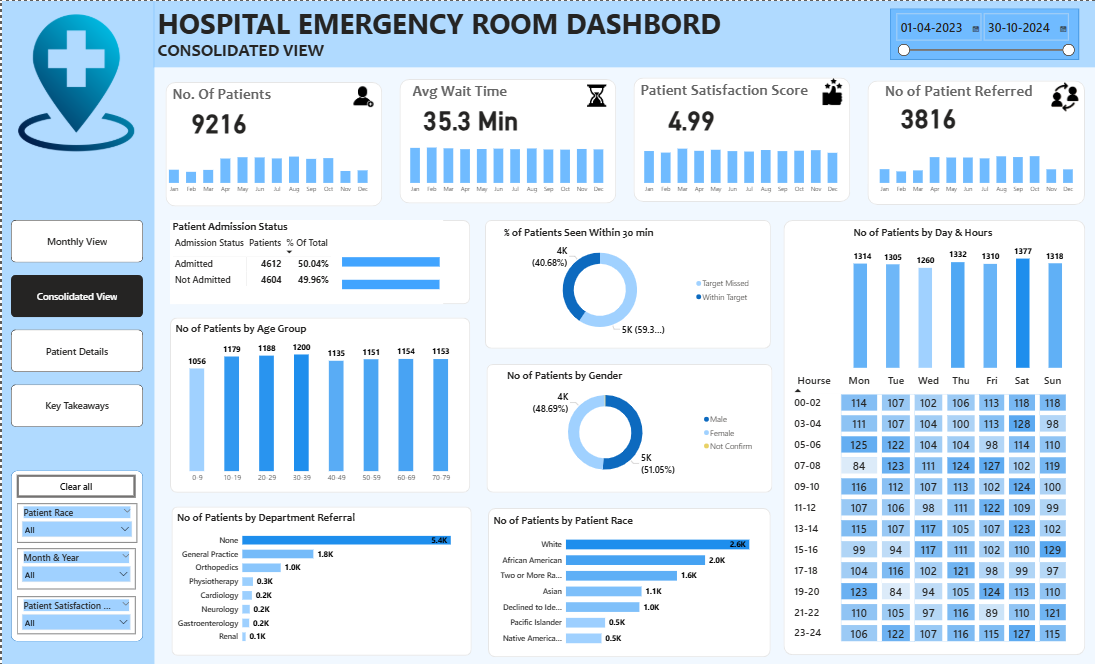

Layout of this report page (visuals, bound fields, positions):
{"tool":"powerbi","page":{"name":"Consolidated View","canvas":[2300,1400],"ordinal":1},"visuals":[{"type":"shape","box":[343.2,170,455,261.3],"z":0},{"type":"shape","box":[0,0,320,1400],"z":1000},{"type":"shape","box":[319.2,0,1979.7,139.2],"z":2000},{"type":"textbox","box":[321.1,0,1212.2,94.5],"z":3000},{"type":"textbox","box":[321.1,75.6,396.7,59.8],"z":4000},{"type":"card","fields":{"Values":["Hospital ER_Data.No of Patients"]},"box":[349.1,191.2,210.9,116.5],"z":5000},{"type":"slicer","fields":{"Values":["Date Table.Date"]},"box":[1863.9,15.7,396.7,107],"z":6000},{"type":"textbox","box":[352.6,170,226.7,59.8],"z":7000},{"type":"columnChart","fields":{"Category":["Date Table.Month Name"],"Y":["Hospital ER_Data.No of Patients"]},"box":[330.6,286.5,456.5,125],"z":8000},{"type":"shape","box":[18.9,984.7,277.1,358.9],"z":8000,"group":"g1"},{"type":"shape","box":[834.4,163.2,455,261.3],"z":9000},{"type":"slicer","fields":{"Values":["Hospital ER_Data.Patient Race"]},"box":[31.5,1054,251.9,81.9],"z":9000,"group":"g1"},{"type":"card","fields":{"Values":["Hospital ER_Data.Avg Wait Time"]},"box":[879.4,185.4,210,116.7],"z":10000},{"type":"slicer","fields":{"Values":["Date Table.Month & Year"]},"box":[31.5,1148.4,248.7,85],"z":10000,"group":"g1"},{"type":"textbox","box":[856.4,163.7,251.9,66.1],"z":11000},{"type":"slicer","fields":{"Values":["Hospital ER_Data.Patient Satisfaction Score"]},"box":[31.5,1249.2,248.7,78.7],"z":11000,"group":"g1"},{"type":"columnChart","fields":{"Category":["Date Table.Month Name"],"Y":["Avg(Hospital ER_Data.Patient Waittime)"]},"box":[836.5,286.5,443.9,125],"z":12000},{"type":"shape","box":[1325.5,160.6,455,261.3],"z":13000},{"type":"shape","box":[353.3,458.9,630,177],"z":14000},{"type":"shape","box":[1816.7,166.9,456.5,261.3],"z":15000},{"type":"textbox","box":[1335,160.6,393.6,69.3],"z":16000},{"type":"card","fields":{"Values":["Hospital ER_Data.Satisfaction Score"]},"box":[1341.9,184.9,210.9,116.5],"z":17000},{"type":"columnChart","fields":{"Y":["Hospital ER_Data.Satisfaction Score"],"Category":["Date Table.Month Name"]},"box":[1329.7,286.5,443.9,125],"z":18000},{"type":"textbox","box":[1848.2,163.7,393.6,69.3],"z":19000},{"type":"columnChart","fields":{"Y":["Hospital ER_Data.No of Petient Referred"],"Category":["Date Table.Month Name"]},"box":[1823,286.5,443.9,125],"z":20000},{"type":"card","fields":{"Values":["Hospital ER_Data.No of Petient Referred"]},"box":[1838.3,181.7,210.9,116.5],"z":21000},{"type":"pivotTable","title":"Patient Admission Status","fields":{"Rows":["Hospital ER_Data.Admission Status"],"Values":["Hospital ER_Data.No of Patients1","Hospital ER_Data.No of Patients"]},"box":[354,460.5,573.3,176.7],"z":22000},{"type":"barChart","fields":{"Category":["Hospital ER_Data.Admission Status"],"Y":["Hospital ER_Data.No of Patients"]},"box":[707.3,500.5,276.7,136.7],"z":23000},{"type":"shape","box":[353.3,664.2,630,368],"z":24000},{"type":"clusteredColumnChart","fields":{"Category":["Hospital ER_Data.Age Group"],"Y":["Hospital ER_Data.No of Patients"]},"box":[360,673.3,613.3,346.7],"z":25000},{"type":"shape","box":[356.7,1060,630,313.3],"z":26000},{"type":"clusteredBarChart","fields":{"Category":["Hospital ER_Data.Department Referral"],"Y":["Hospital ER_Data.No of Patients"]},"box":[363.3,1070,613.3,290],"z":27000},{"type":"shape","box":[1013.3,460,600,270],"z":28000},{"type":"donutChart","title":"% of Patients Seen Within 30 min ","fields":{"Category":["Hospital ER_Data.Waittime Status"],"Y":["Hospital ER_Data.No of Patients"]},"box":[1050,473.3,533.3,240],"z":29000},{"type":"shape","box":[1016.8,761.2,600,270],"z":30000},{"type":"donutChart","title":"No of Patients by Gender","fields":{"Y":["Hospital ER_Data.No of Patients"],"Category":["Hospital ER_Data.Patient Gender"]},"box":[1053.3,772.9,533.3,240],"z":31000},{"type":"shape","box":[1020,1063.3,593.3,313.3],"z":32000},{"type":"clusteredBarChart","fields":{"Y":["Hospital ER_Data.No of Patients"],"Category":["Hospital ER_Data.Patient Race"]},"box":[1026.7,1076.7,576.7,290],"z":33000},{"type":"shape","box":[1640,460,633.3,913.3],"z":34000},{"type":"pivotTable","fields":{"Rows":["Hospital ER_Data.Waittime Interval"],"Columns":["Date Table.Day Name"],"Values":["Hospital ER_Data.No of Patients"]},"box":[1653.3,773.3,606.7,586.7],"z":35000},{"type":"columnChart","title":"No of Patients by Day & Hours","fields":{"Category":["Date Table.Day Name"],"Y":["Hospital ER_Data.No of Patients"]},"box":[1783.3,473.3,450,303.3],"z":36000},{"type":"image","box":[717.9,170,81.9,59.8],"z":37000},{"type":"image","box":[1221.6,170,53.5,56.7],"z":38000},{"type":"image","box":[1709.6,151.1,66.1,78.7],"z":39000},{"type":"image","box":[2191.4,157.4,78.7,88.2],"z":40000},{"type":"image","box":[6.3,22,299.1,299.1],"z":41000},{"type":"pageNavigator","box":[18.9,459.7,277.1,434.5],"z":42000},{"type":"group","id":"g1","title":"Group 1","box":[18.9,984.7,277.1,358.9],"z":42001,"group":"g2"},{"type":"actionButton","box":[31.5,994.1,248.7,47.2],"z":42002,"group":"g2"},{"type":"group","id":"g2","title":"Group 2","box":[18.9,984.7,277.1,358.9],"z":42003}]}

Visuals, with their boxes in screenshot pixels (x1, y1, x2, y2), scaled from the page's 2300x1400 canvas onto the 1095x664 screenshot:
shape: (163,81,380,205)
shape: (0,0,152,663)
shape: (152,0,1094,66)
textbox: (153,0,730,45)
textbox: (153,36,342,64)
card - Hospital ER_Data.No of Patients: (166,91,267,146)
slicer - Date Table.Date: (887,7,1076,58)
textbox: (168,81,276,109)
columnChart - Date Table.Month Name x Hospital ER_Data.No of Patients: (157,136,375,195)
shape: (9,467,141,637)
shape: (397,77,614,201)
slicer - Hospital ER_Data.Patient Race: (15,500,135,539)
card - Hospital ER_Data.Avg Wait Time: (419,88,519,143)
slicer - Date Table.Month & Year: (15,545,133,585)
textbox: (408,78,528,109)
slicer - Hospital ER_Data.Patient Satisfaction Score: (15,592,133,630)
columnChart - Date Table.Month Name x Avg(Hospital ER_Data.Patient Waittime): (398,136,610,195)
shape: (631,76,848,200)
shape: (168,218,468,302)
shape: (865,79,1082,203)
textbox: (636,76,823,109)
card - Hospital ER_Data.Satisfaction Score: (639,88,739,143)
columnChart - Hospital ER_Data.Satisfaction Score x Date Table.Month Name: (633,136,844,195)
textbox: (880,78,1067,111)
columnChart - Hospital ER_Data.No of Petient Referred x Date Table.Month Name: (868,136,1079,195)
card - Hospital ER_Data.No of Petient Referred: (875,86,976,141)
"Patient Admission Status" pivotTable: (169,218,441,302)
barChart - Hospital ER_Data.Admission Status x Hospital ER_Data.No of Patients: (337,237,468,302)
shape: (168,315,468,490)
clusteredColumnChart - Hospital ER_Data.Age Group x Hospital ER_Data.No of Patients: (171,319,463,484)
shape: (170,503,470,651)
clusteredBarChart - Hospital ER_Data.Department Referral x Hospital ER_Data.No of Patients: (173,507,465,645)
shape: (482,218,768,346)
"% of Patients Seen Within 30 min " donutChart: (500,224,754,338)
shape: (484,361,770,489)
"No of Patients by Gender" donutChart: (501,367,755,480)
shape: (486,504,768,653)
clusteredBarChart - Hospital ER_Data.No of Patients x Hospital ER_Data.Patient Race: (489,511,763,648)
shape: (781,218,1082,651)
pivotTable - Hospital ER_Data.Waittime Interval x Date Table.Day Name: (787,367,1076,645)
"No of Patients by Day & Hours" columnChart: (849,224,1063,368)
image: (342,81,381,109)
image: (582,81,607,108)
image: (814,72,845,109)
image: (1043,75,1081,116)
image: (3,10,145,152)
pageNavigator: (9,218,141,424)
"Group 1" group: (9,467,141,637)
actionButton: (15,471,133,494)
"Group 2" group: (9,467,141,637)
